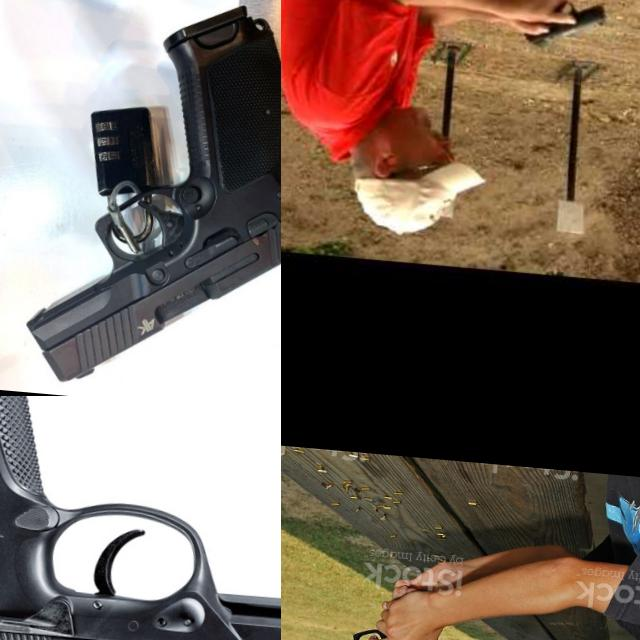handgun: (16, 0, 281, 396), (0, 396, 281, 640), (518, 0, 608, 57), (296, 619, 441, 640)
